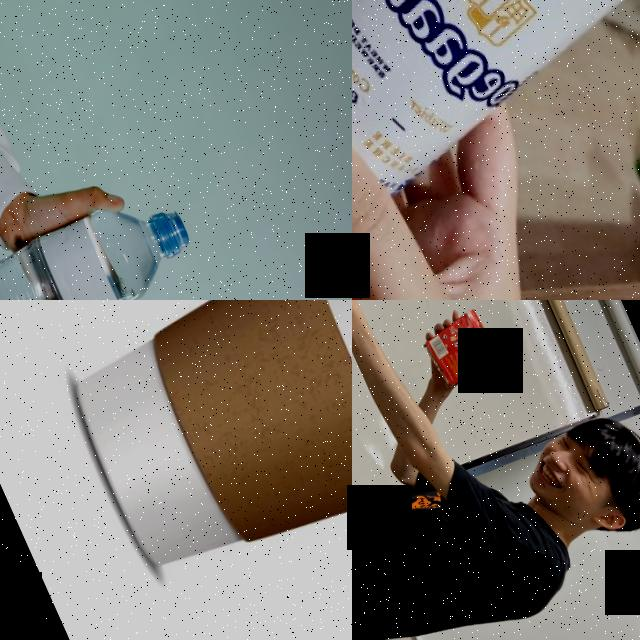bottle: (0, 181, 202, 300)
can: (352, 0, 640, 294)
cup: (39, 300, 352, 629)
